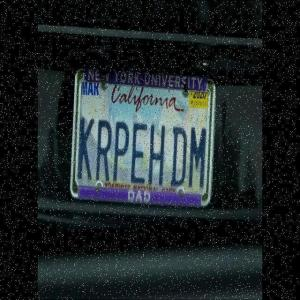Plate: (66, 47, 220, 230)
